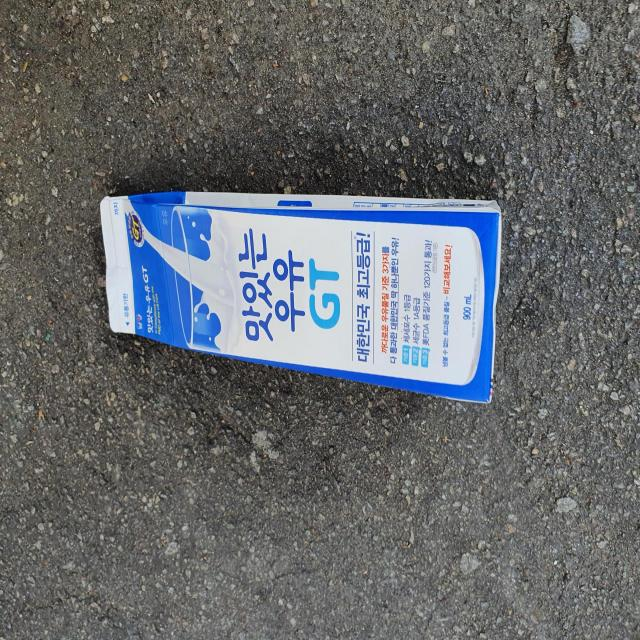paperpack: (100, 191, 502, 402)
